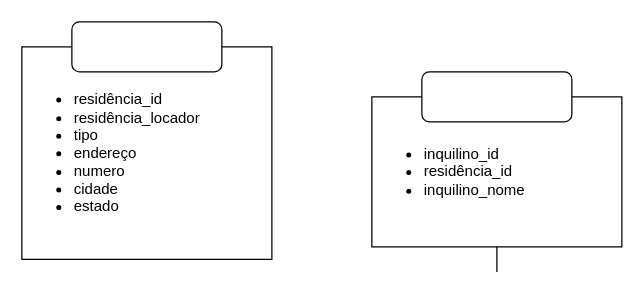
Some shapes in this 644 by 304 pixel diagram are drawn without their labels. Here are the shapes that lost their labels. From the top down, the centre of each, then its label:
point 146,46: Residência
point 496,96: Inquilino
